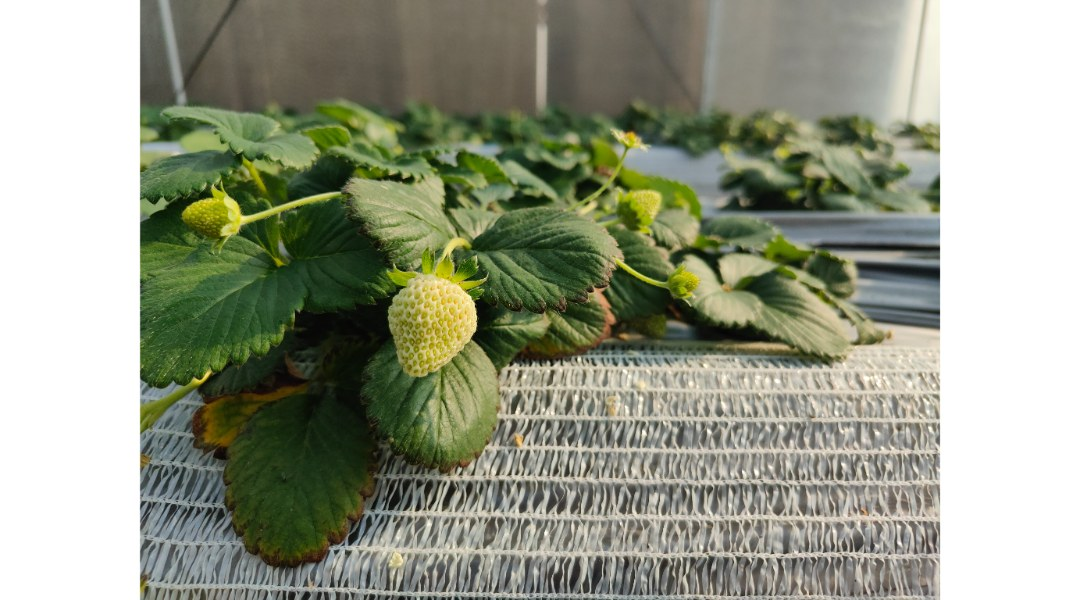berry: (382, 256, 493, 387), (606, 176, 669, 237)
flower: (596, 119, 661, 152)
strain: (247, 170, 367, 223), (622, 260, 668, 291)
